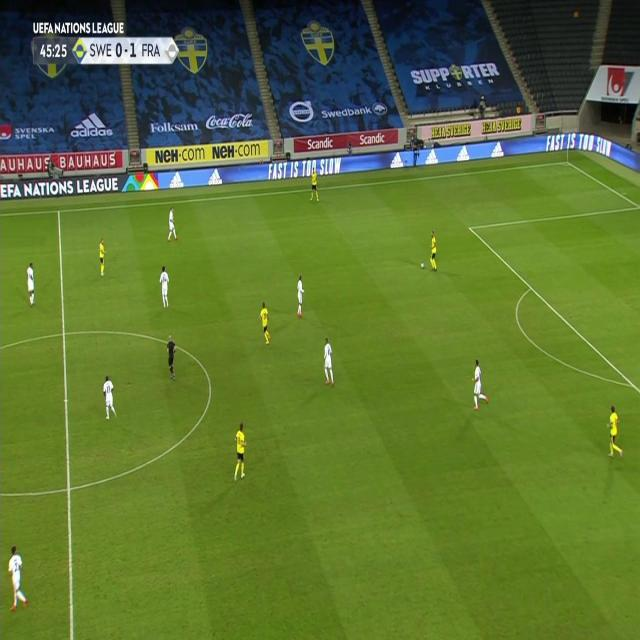ball: (420, 262, 426, 270)
player: (6, 545, 28, 611), (605, 404, 625, 460), (471, 359, 491, 411), (232, 421, 248, 484), (101, 376, 118, 421), (258, 302, 272, 348), (322, 337, 334, 389), (165, 333, 177, 382), (25, 260, 37, 308), (159, 266, 171, 308), (428, 228, 438, 274), (296, 275, 306, 320), (308, 167, 320, 204), (167, 206, 178, 242), (98, 238, 106, 278)
